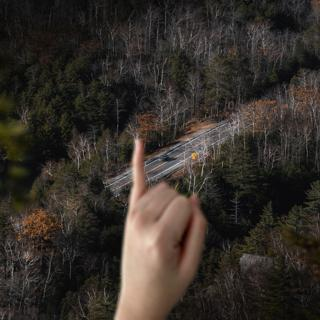Fine: (111, 132, 214, 310)
